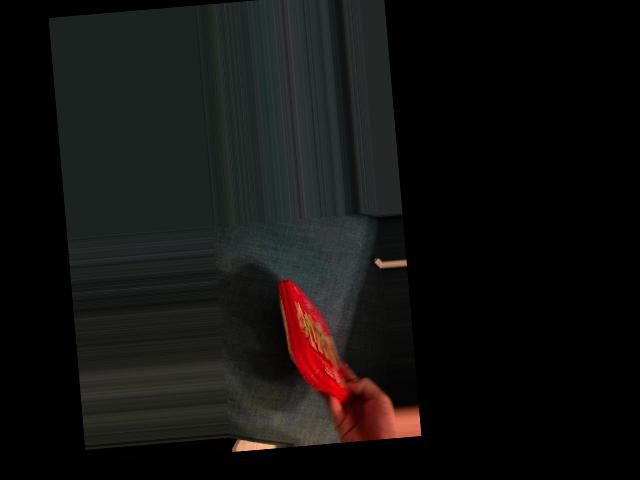cheese: (275, 276, 353, 401)
